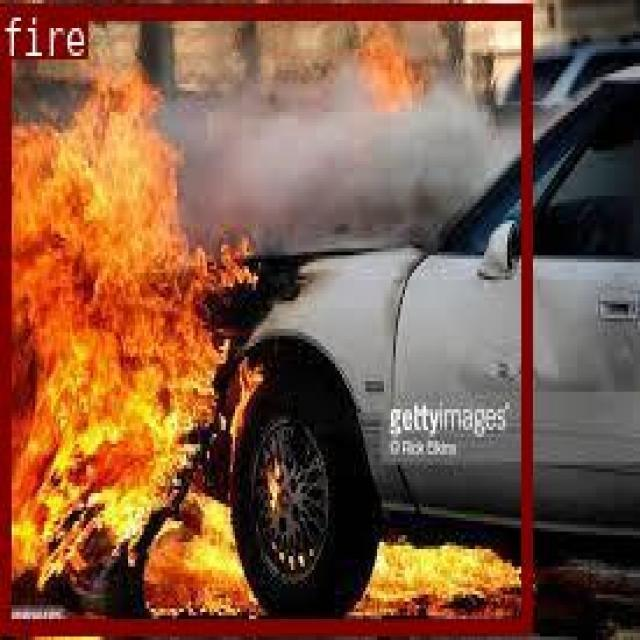fire: (0, 0, 531, 630)
